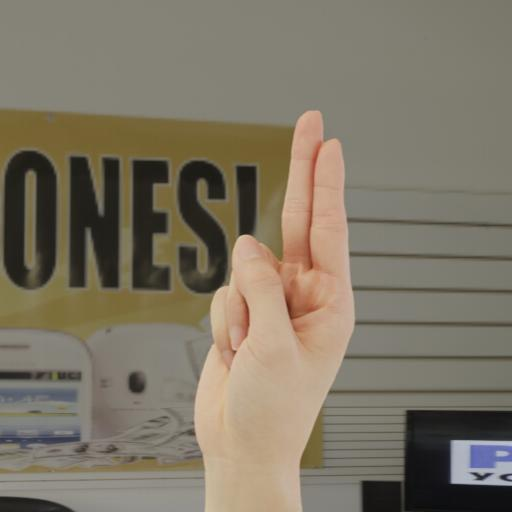U: (176, 81, 362, 439)
